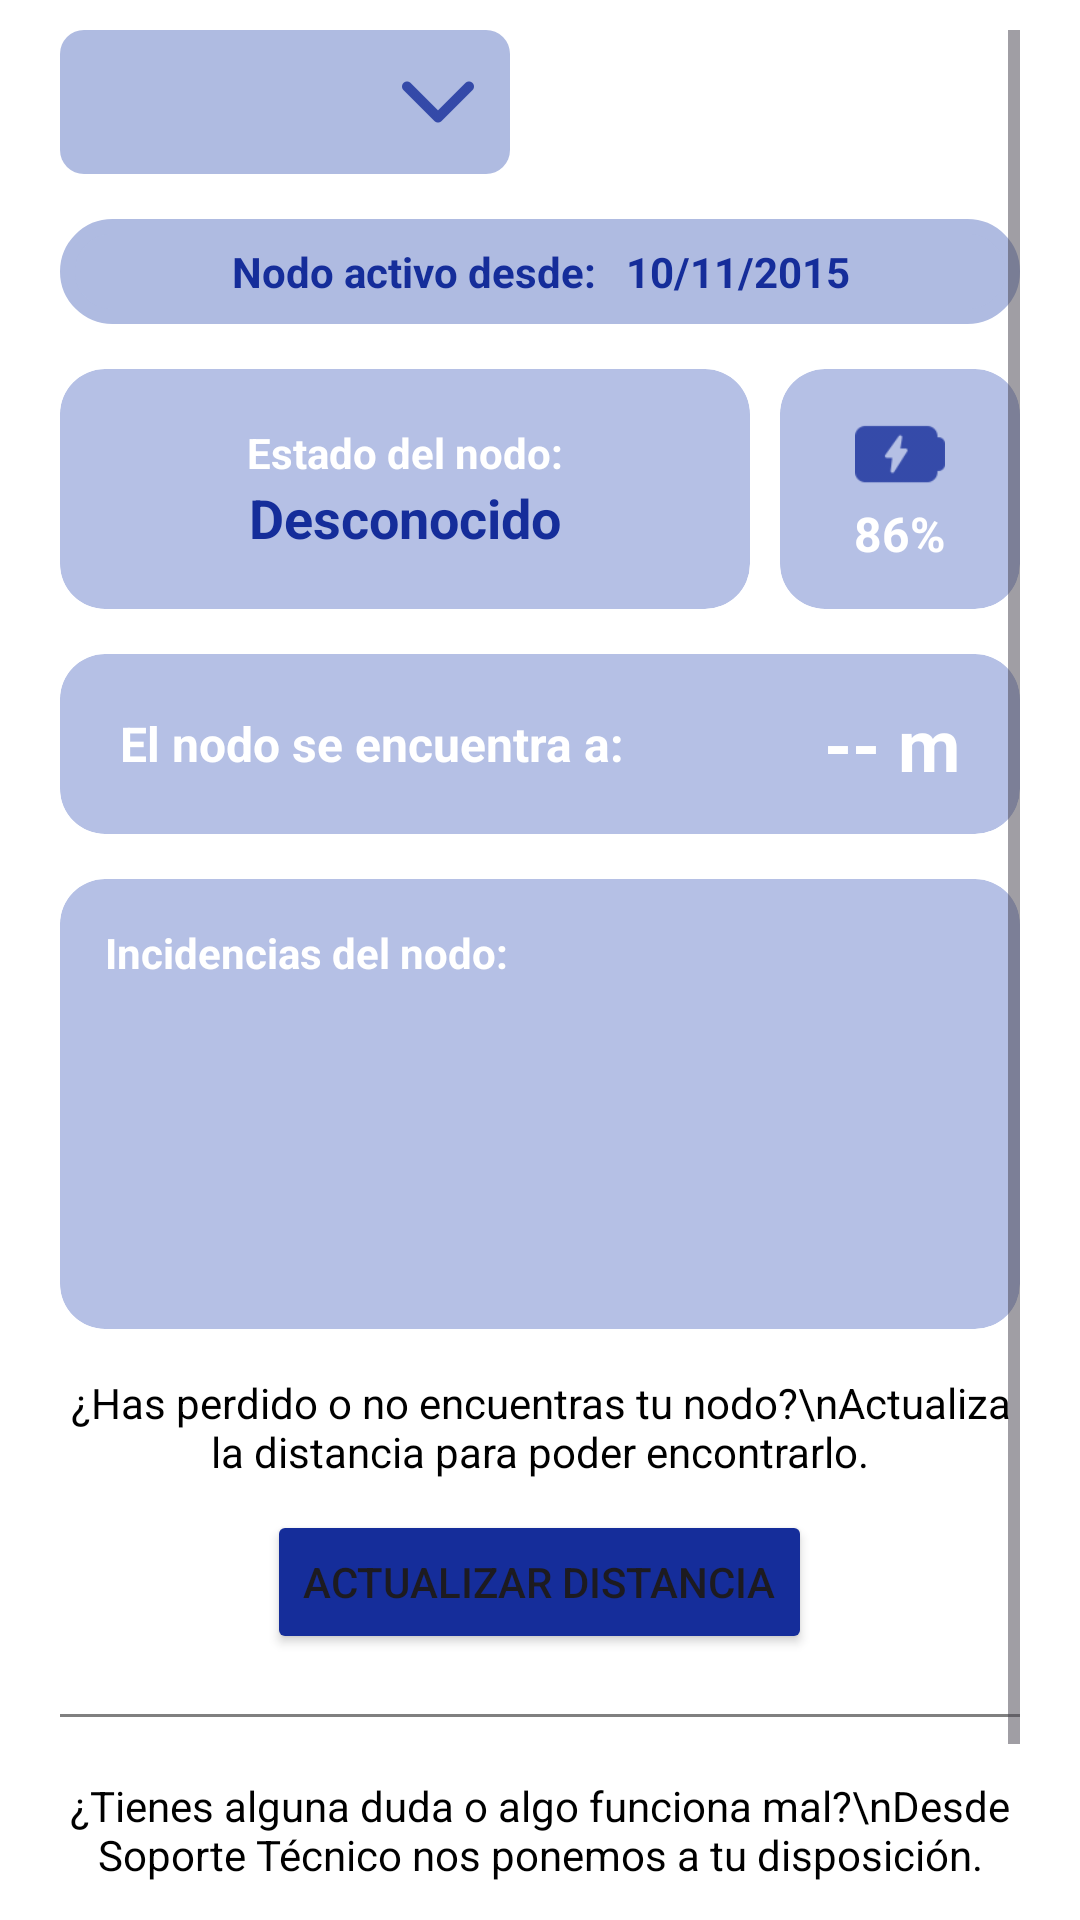

Icon bounding boxes for this 1080*1920 phone screenshot, format (x1, y1, x2, y2):
battery: (855, 426, 945, 483)
